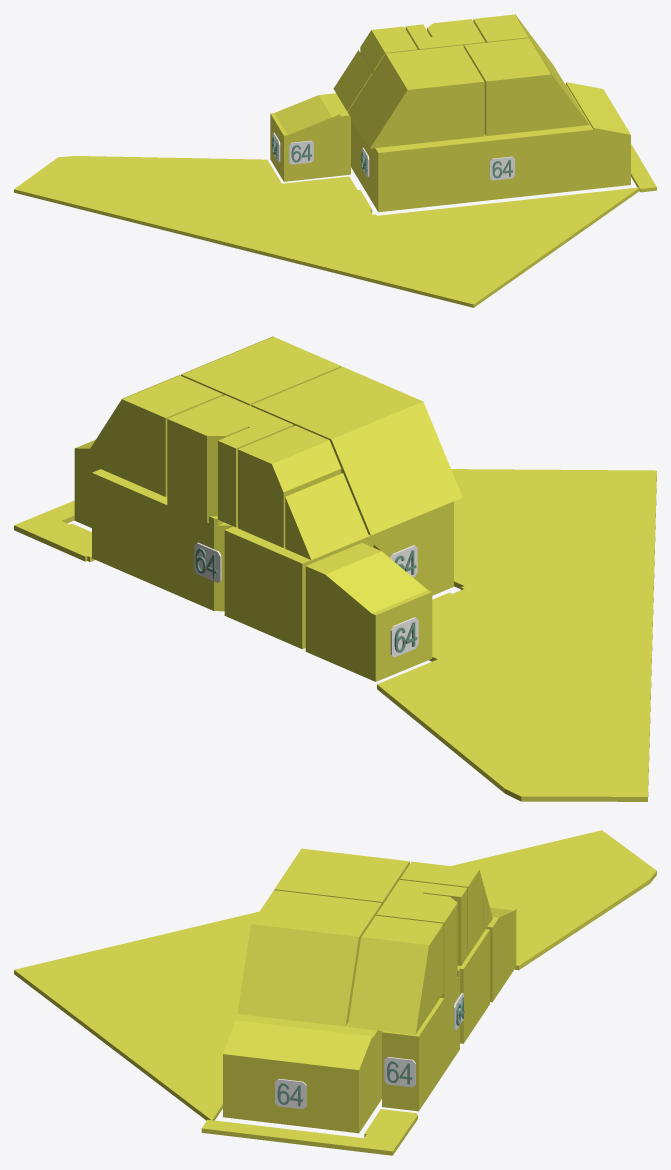
3 renders of one model, top to bottom at view 1: azimuth 30°, elevation 25°; view 2: azimuth 150°, elevation 25°; view 3: azimuth 270°, elevation 25°, orthographic. The views are drawn at different scales.
Parts seen in each view (by area): view 1: g_13, g_14, g_1, g_7, g_8, g_0, g_5, g_6, g_9, g_10, g_12, g_15 (+2 smaller); view 2: g_13, g_7, g_14, g_5, g_0, g_9, g_6, g_4, g_8, g_11, g_12, g_2 (+3 smaller); view 3: g_14, g_13, g_1, g_8, g_9, g_7, g_4, g_10, g_6, g_0, g_15, g_5 (+5 smaller).
Part boxes in pixels (x1=…): g_13: x1=14, y1=156, x2=422, y2=294; g_14: x1=377, y1=187, x2=639, y2=307; g_1: x1=451, y1=82, x2=630, y2=203; g_7: x1=348, y1=45, x2=484, y2=148; g_8: x1=464, y1=38, x2=589, y2=135; g_0: x1=351, y1=118, x2=453, y2=212; g_5: x1=270, y1=93, x2=350, y2=181; g_6: x1=360, y1=26, x2=417, y2=73; g_9: x1=473, y1=14, x2=566, y2=86; g_10: x1=405, y1=24, x2=485, y2=49; g_12: x1=333, y1=50, x2=372, y2=111; g_15: x1=631, y1=144, x2=656, y2=192; g_13: x1=377, y1=507, x2=655, y2=801; g_7: x1=251, y1=367, x2=462, y2=535; g_14: x1=451, y1=469, x2=656, y2=589; g_5: x1=305, y1=543, x2=432, y2=681; g_0: x1=224, y1=501, x2=453, y2=649; g_9: x1=82, y1=375, x2=223, y2=496; g_6: x1=238, y1=425, x2=341, y2=547; g_4: x1=92, y1=469, x2=167, y2=589; g_8: x1=180, y1=336, x2=341, y2=405; g_11: x1=167, y1=409, x2=248, y2=515; g_12: x1=285, y1=473, x2=368, y2=559; g_2: x1=165, y1=498, x2=233, y2=611; g_14: x1=14, y1=954, x2=243, y2=1120; g_13: x1=80, y1=830, x2=656, y2=973; g_1: x1=223, y1=1014, x2=382, y2=1133; g_8: x1=237, y1=890, x2=381, y2=1026; g_9: x1=347, y1=915, x2=443, y2=1034; g_7: x1=274, y1=848, x2=409, y2=905; g_4: x1=382, y1=999, x2=443, y2=1111; g_10: x1=376, y1=880, x2=467, y2=965; g_6: x1=400, y1=861, x2=483, y2=955; g_0: x1=457, y1=929, x2=489, y2=1043; g_15: x1=201, y1=1119, x2=363, y2=1151; g_5: x1=486, y1=905, x2=516, y2=1002.
Bounding box in the file's own units: 23.72 × 5.36 × 20.06.
